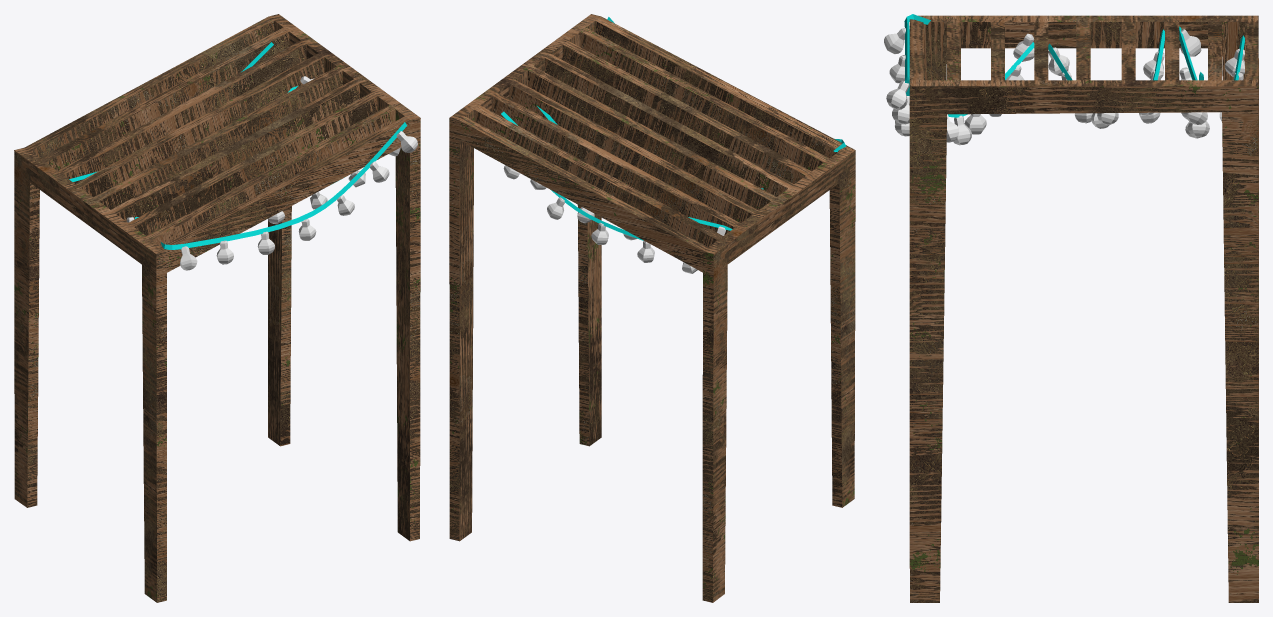
File: m_woonArch.fbx
3 renders of one model, left to right at view 1: azimuth 30°, elevation 25°; view 2: azimuth 150°, elevation 25°; view 3: azimuth 270°, elevation 25°, orthographic. The views are drawn at different scales.
Parts seen in each view (by area): view 1: polySurface1000; view 2: polySurface1000; view 3: polySurface1000.
Part boxes in pixels (x1,y1,x2,y2): polySurface1000: (14,14,420,602); polySurface1000: (449,14,855,602); polySurface1000: (884,14,1258,602).
Size of the model in its own units: 636 by 969 by 636.
